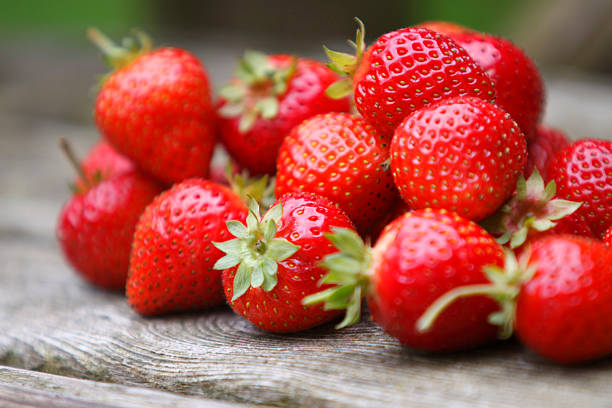Fresa: (366, 200, 516, 355), (220, 193, 371, 342), (121, 174, 264, 314), (92, 41, 223, 190), (389, 91, 536, 221), (214, 46, 357, 176), (351, 24, 499, 142), (271, 109, 398, 237), (509, 228, 612, 369), (535, 132, 612, 233)
